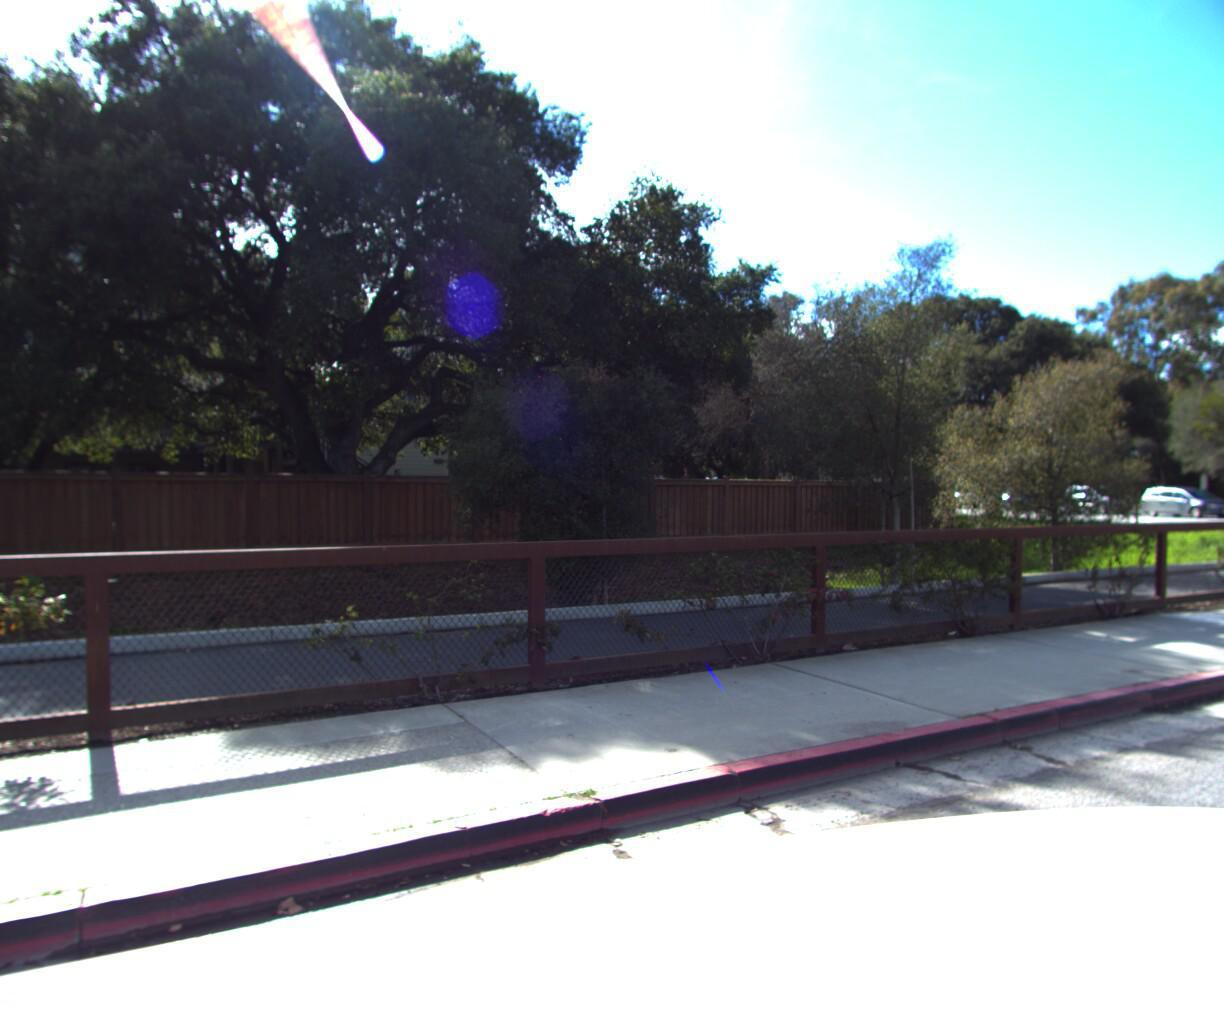car: (1135, 479, 1224, 513)
